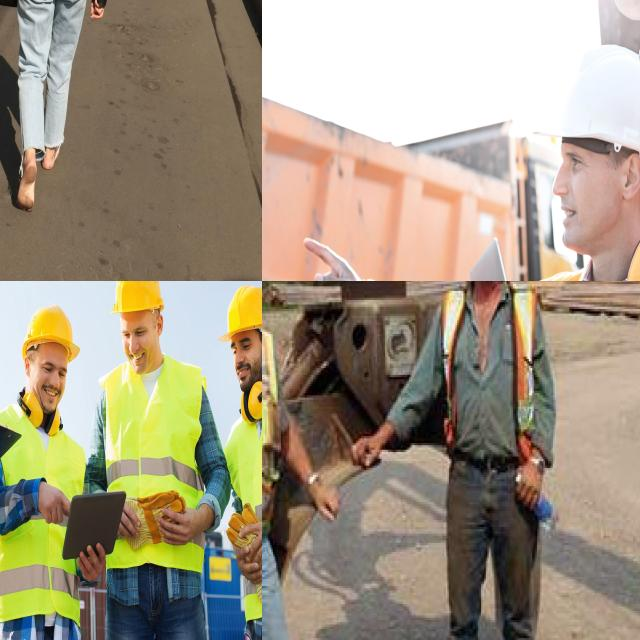Barefoots: (17, 160, 37, 212), (41, 144, 60, 170)
No_Ear-Protection: (620, 149, 640, 206)
No_Glasses: (548, 141, 604, 182)
face_nomask: (548, 142, 620, 249), (29, 340, 79, 418), (122, 314, 162, 374), (231, 334, 262, 395)
hand_noglove: (299, 229, 364, 281), (505, 448, 551, 511), (33, 475, 74, 532), (345, 429, 385, 482), (313, 475, 343, 531), (76, 544, 108, 590), (243, 519, 262, 575)
head_helmet: (537, 26, 640, 171), (22, 304, 81, 363), (217, 284, 262, 341), (109, 281, 164, 313)
person: (444, 0, 640, 281), (91, 281, 226, 640), (434, 281, 546, 640), (0, 310, 89, 640), (205, 281, 262, 640), (224, 284, 262, 640)
vest: (104, 350, 208, 576), (442, 281, 551, 454), (0, 400, 82, 628), (337, 228, 620, 281), (234, 376, 262, 626), (262, 313, 287, 529)
